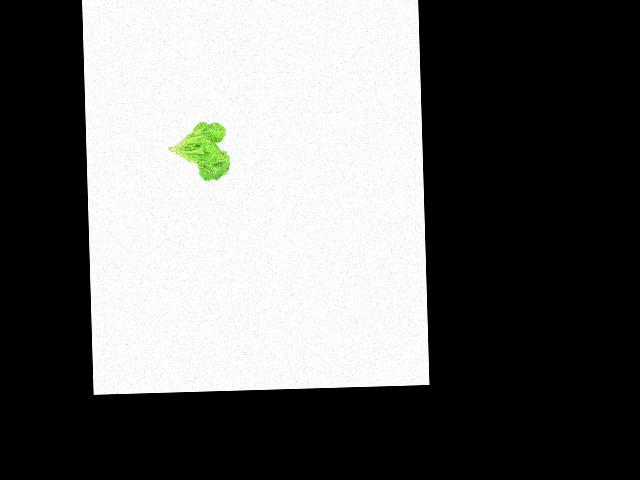lettuce: (166, 118, 234, 185)
